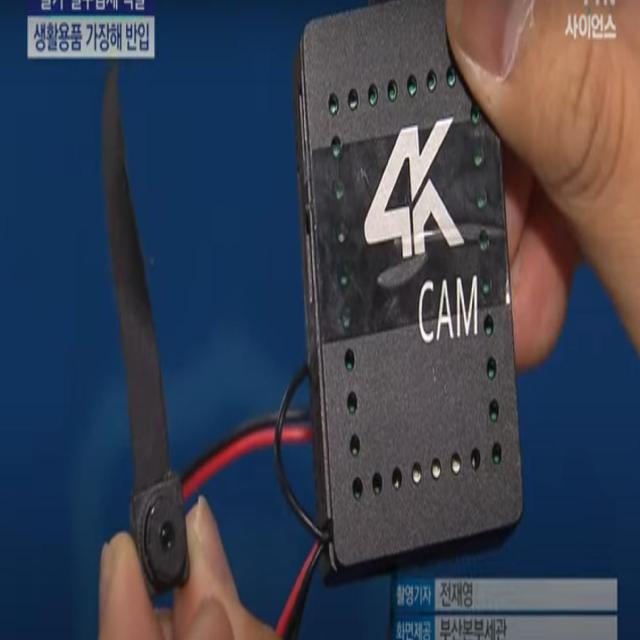hidden camera: (146, 495, 187, 589)
